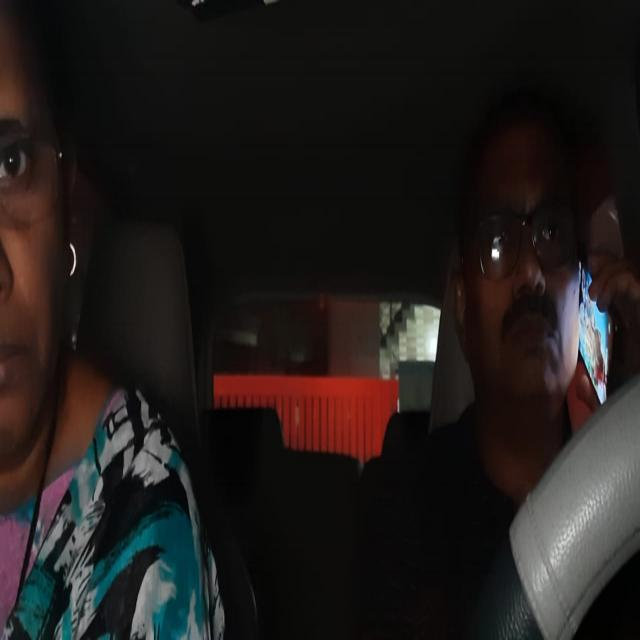mobile: (576, 247, 618, 416)
person: (452, 54, 582, 432), (1, 0, 90, 477)
